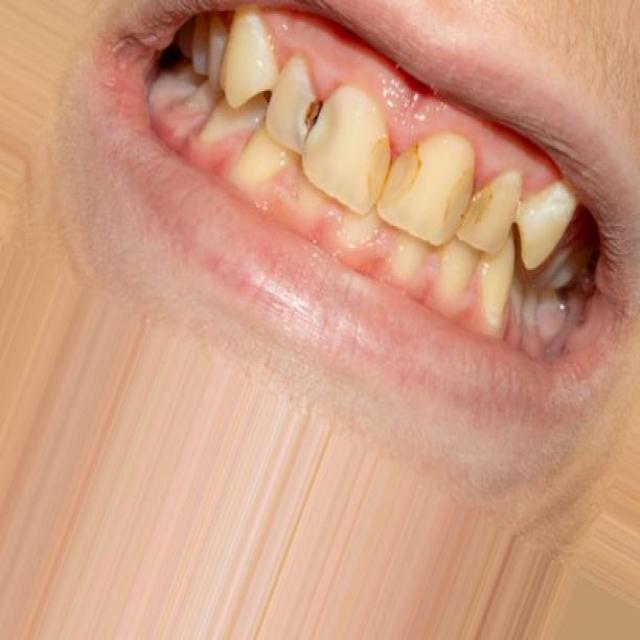caries: (356, 125, 430, 222), (438, 159, 498, 248), (284, 77, 343, 165)
